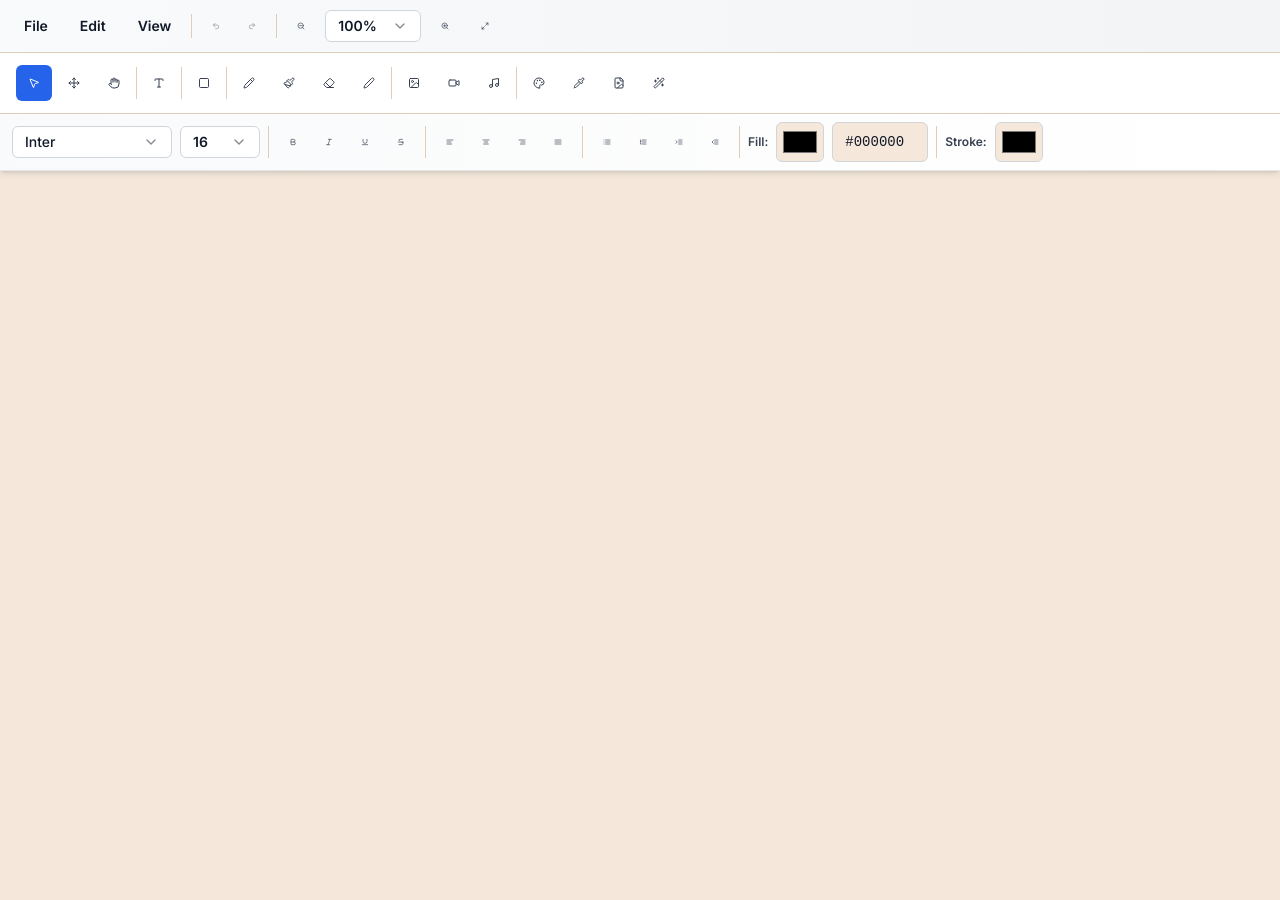
EnhancedEditorToolbar diagram insertion › opens the dialog when Insert Diagram button is clicked
Click the button named "Insert diagram".
click(619, 83)  # box [601, 65, 637, 101]
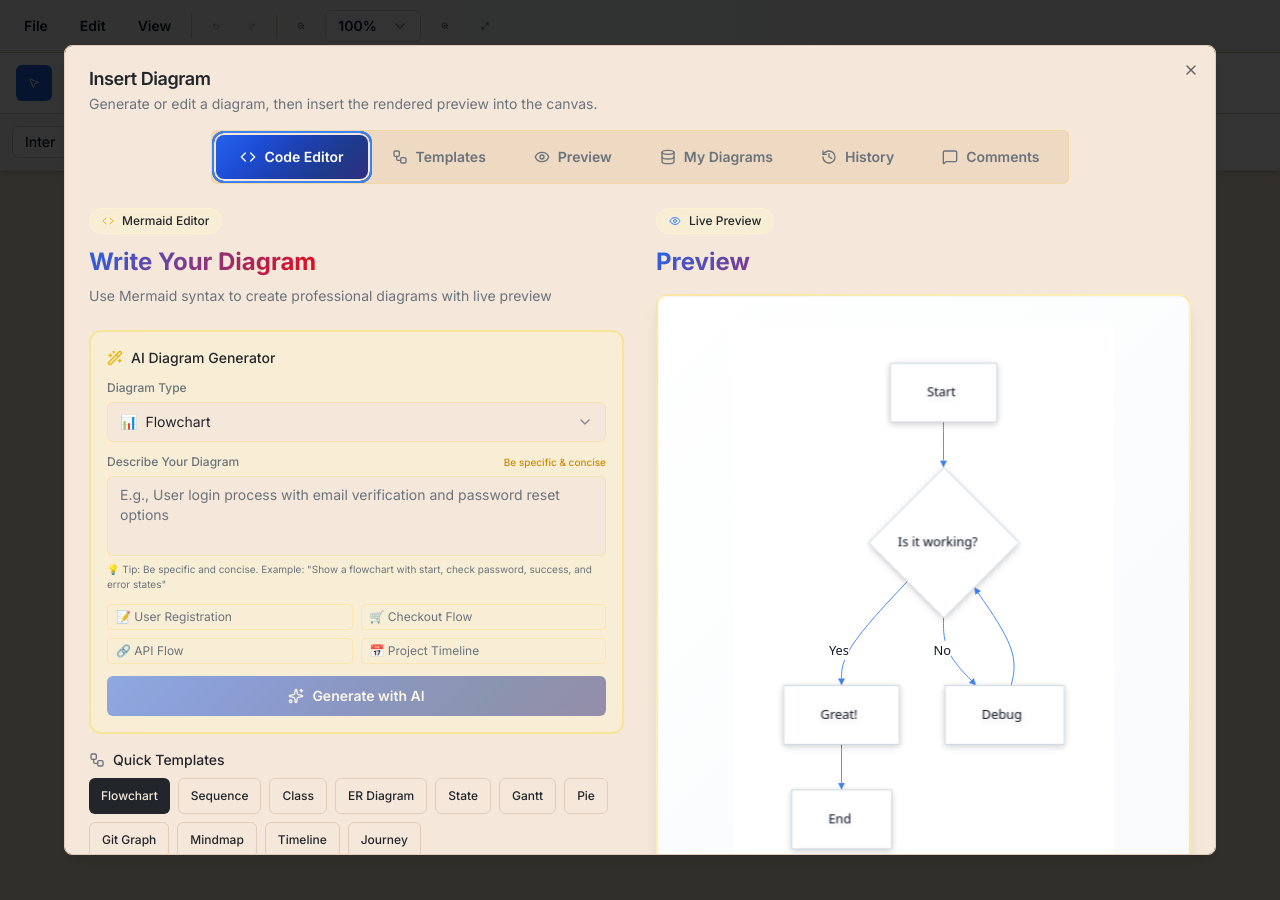
Check: the heading "Insert Diagram" is shown, box [89, 68, 210, 89]
